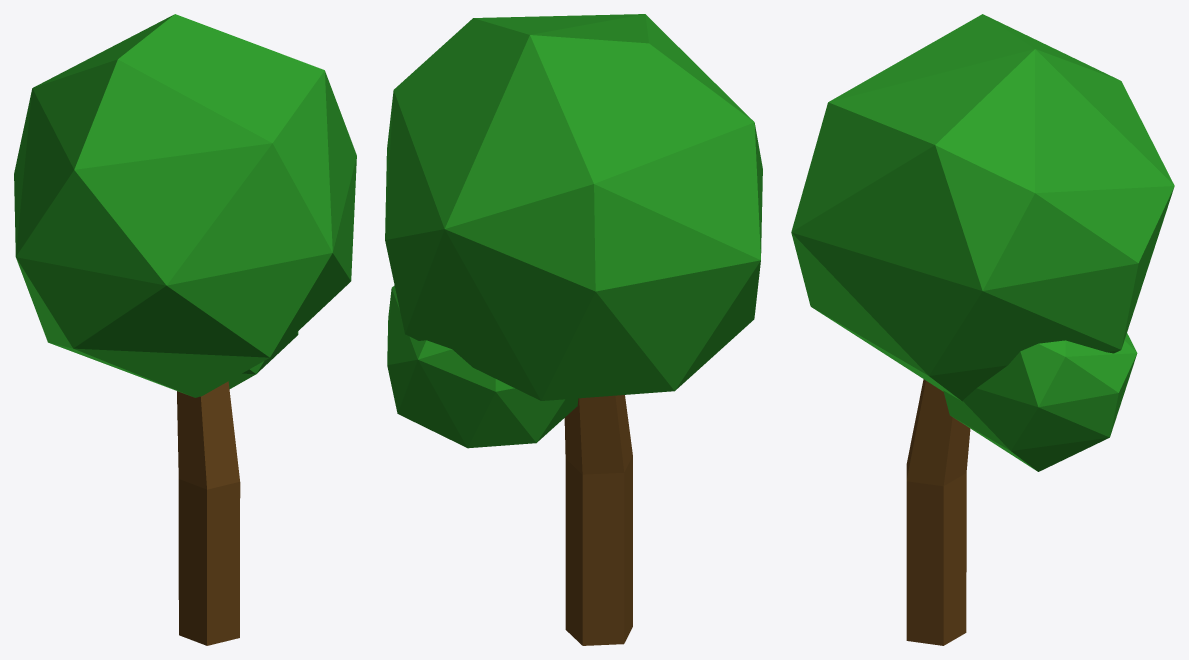
Rendered from Arvore 3.fbx.
3 views of the same model, side by side, from view 1: azimuth 30°, elevation 25°; view 2: azimuth 150°, elevation 25°; view 3: azimuth 270°, elevation 25° (orthographic). The views are drawn at different scales.
Visible parts, largest first — view 1: Icosphere, Cylinder, Icosphere.001; view 2: Icosphere, Cylinder, Icosphere.001; view 3: Icosphere, Icosphere.001, Cylinder.
Part boxes in pixels (x1,y1,x2,y2): Icosphere: (14, 14, 356, 397); Cylinder: (177, 381, 240, 645); Icosphere.001: (228, 331, 298, 389); Icosphere: (385, 14, 762, 400); Cylinder: (564, 395, 632, 645); Icosphere.001: (387, 285, 578, 448); Icosphere: (791, 14, 1174, 401); Icosphere.001: (943, 333, 1137, 471); Cylinder: (906, 379, 970, 645).
Size of the model in its own units: 255 by 413 by 243.
